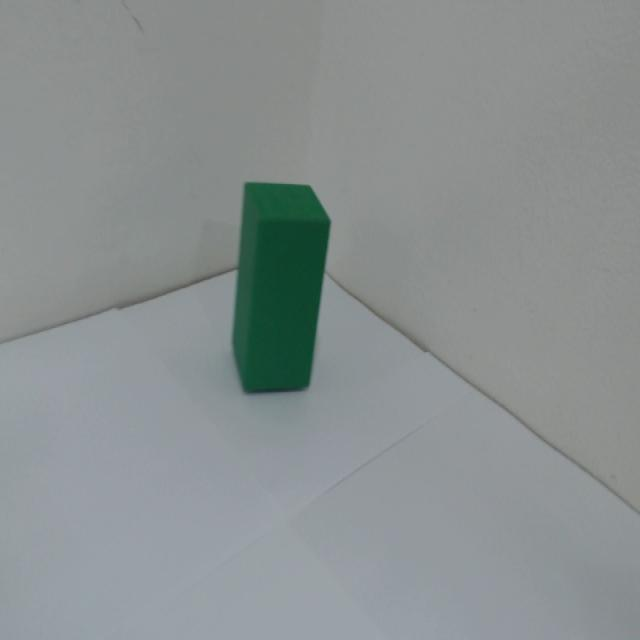cube: (210, 127, 345, 440)
